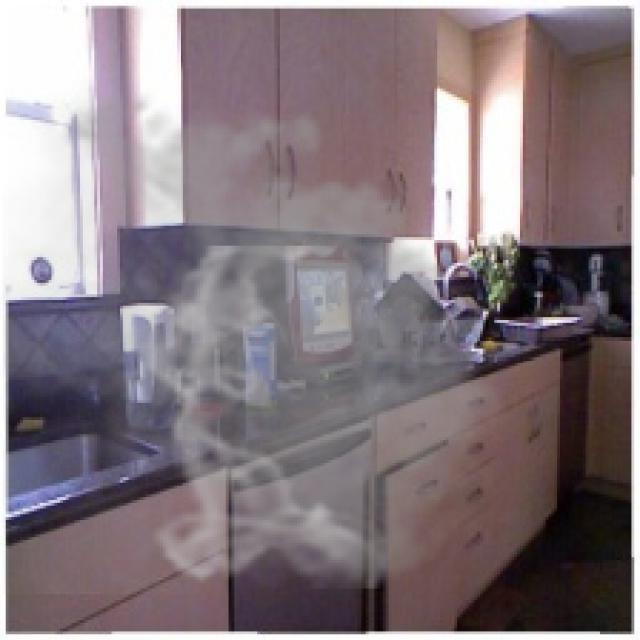Smoke: (3, 77, 523, 594)
